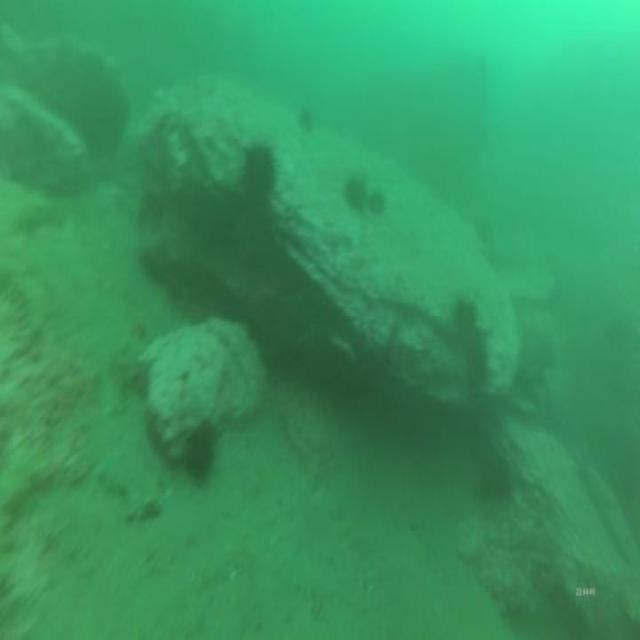echinus: (240, 137, 279, 204), (184, 414, 218, 485), (480, 452, 517, 507), (463, 329, 491, 398), (452, 291, 478, 346), (344, 168, 368, 220), (366, 185, 388, 221), (295, 100, 317, 134)
